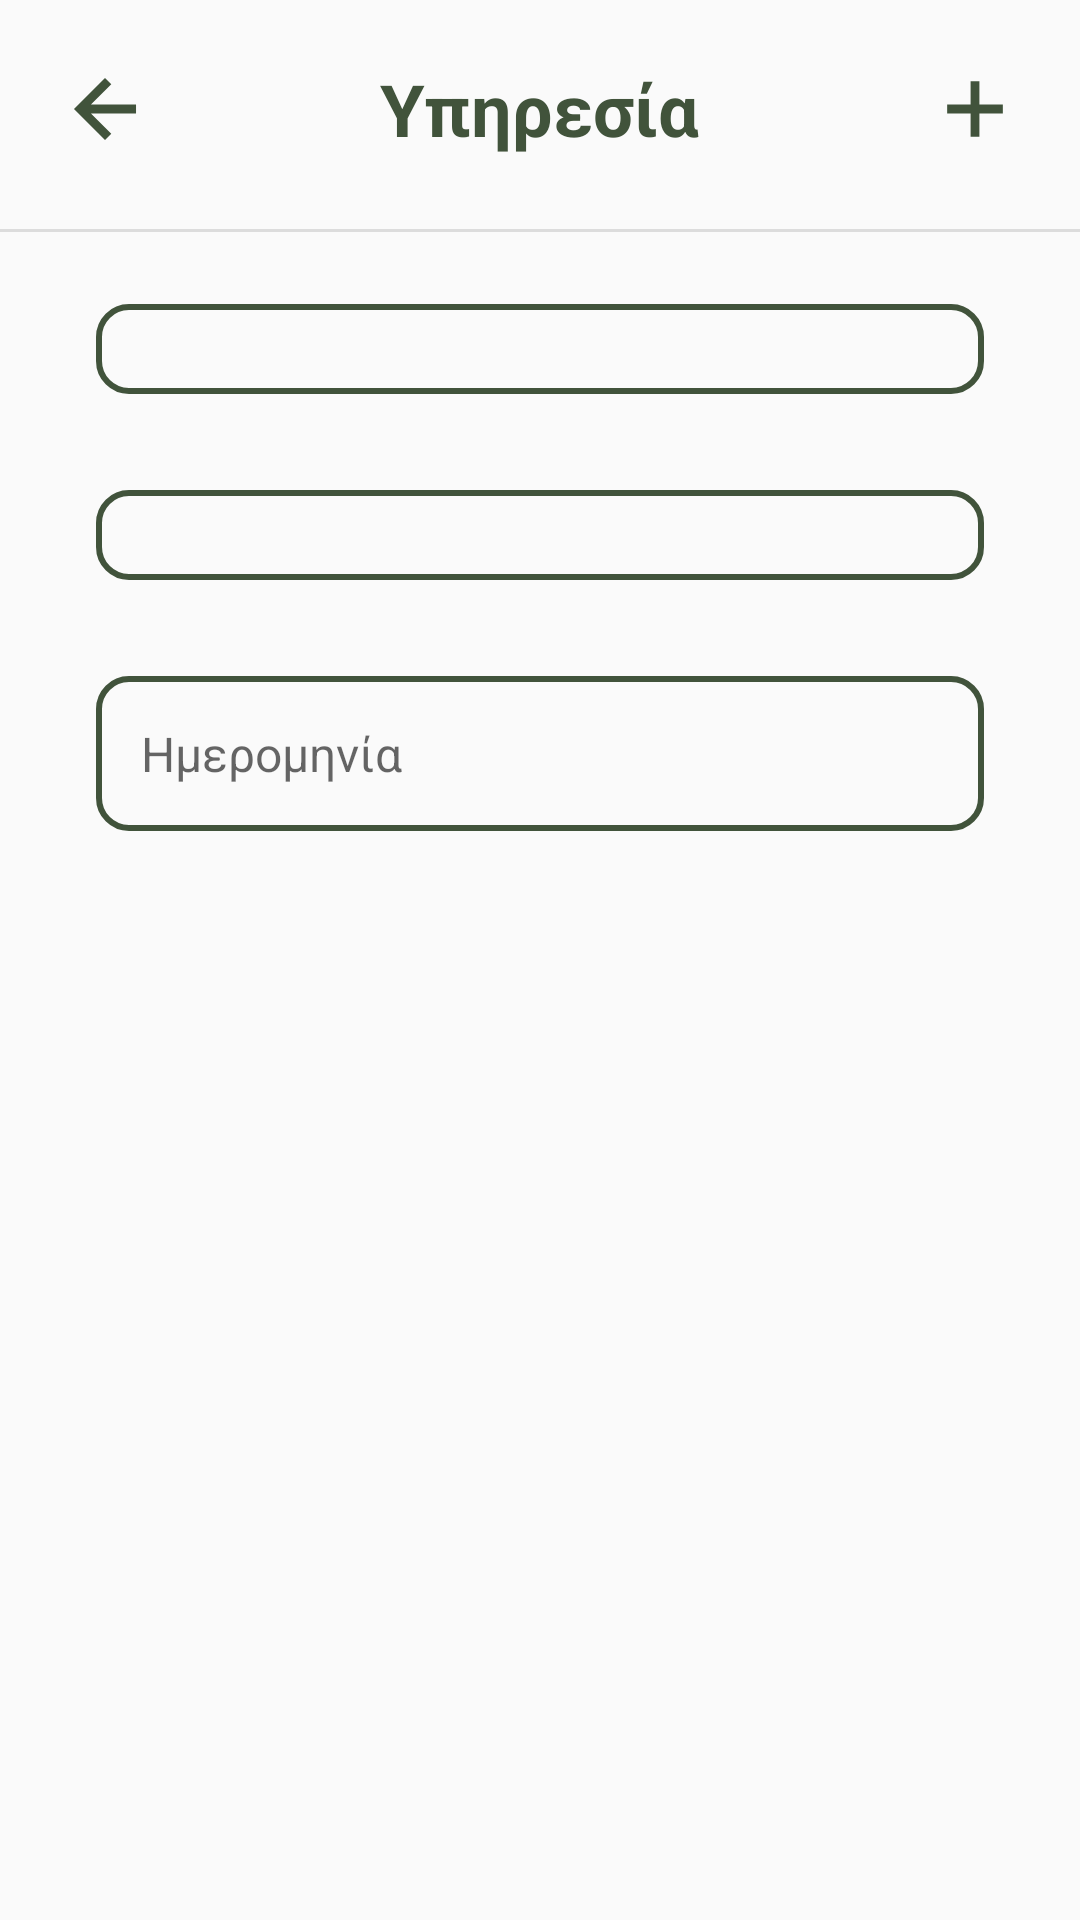

Named icons in this screenshot (1080×1920) and their centers, [x,y]:
add: [975,109]
arrow back: [105,109]
